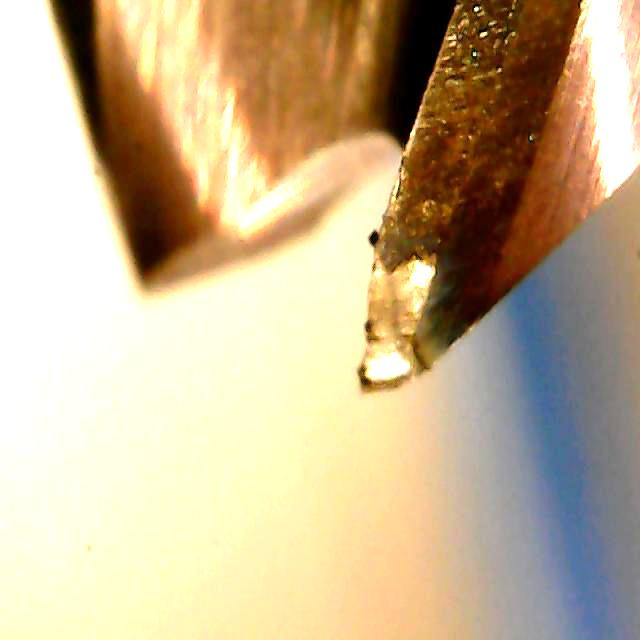Tool-wear-class-2: (332, 50, 516, 404)
